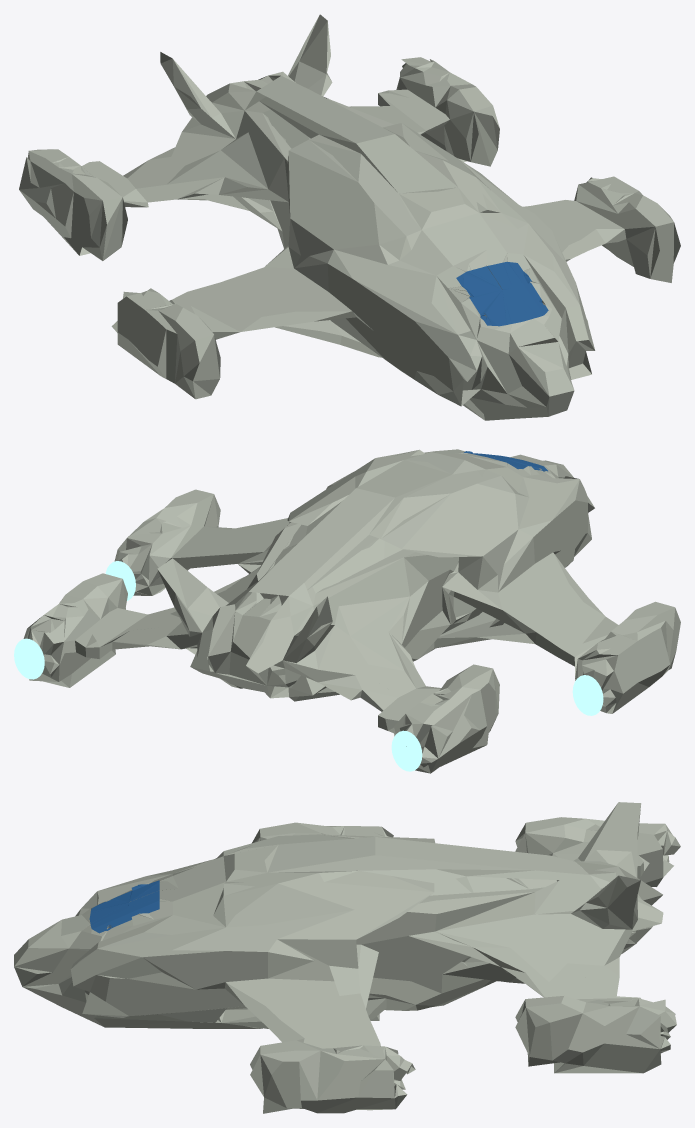
The model's file is alliance-chieftain.glb.
3 views of the same model, one above another, from view 1: azimuth 30°, elevation 25°; view 2: azimuth 150°, elevation 25°; view 3: azimuth 270°, elevation 25° (orthographic). The views are drawn at different scales.
Visible parts, largest first — view 1: alliance-chieftain; view 2: alliance-chieftain; view 3: alliance-chieftain.
Boxes of the visible parts, x1,y1,x2,y2 form: alliance-chieftain: [19, 14, 680, 420]; alliance-chieftain: [14, 449, 680, 773]; alliance-chieftain: [14, 802, 680, 1113].
Size of the model in its own units: 58.47 by 19.92 by 67.94.
